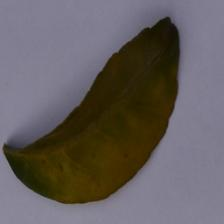greening: (34, 73, 179, 200)
